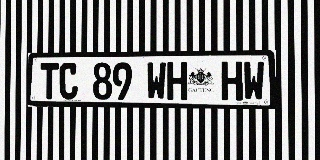8: (93, 62, 112, 100)
9: (113, 62, 132, 100)
C: (59, 63, 78, 99)
H: (221, 61, 242, 101), (167, 62, 187, 100)
T: (40, 63, 59, 99)
W: (243, 61, 265, 101), (146, 62, 166, 100)
